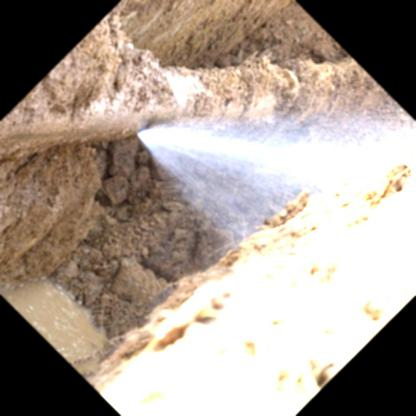burst: (123, 96, 193, 175)
